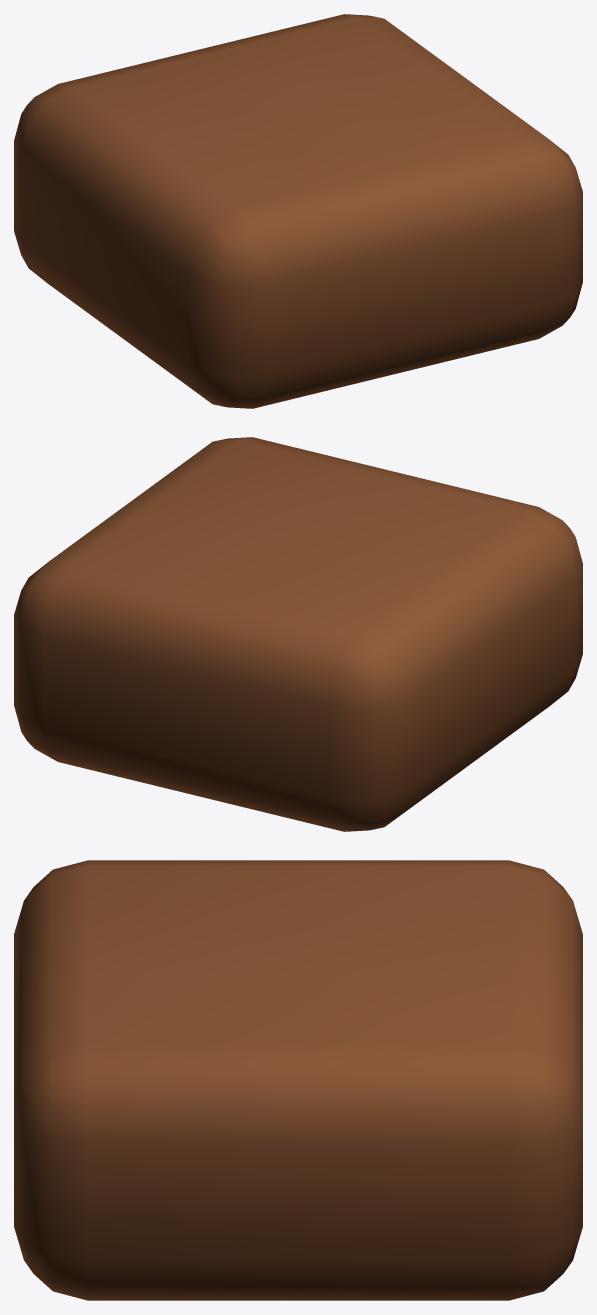
Rendered from candy_choco_13.fbx.
3 views of the same model, one above another, from view 1: azimuth 30°, elevation 25°; view 2: azimuth 150°, elevation 25°; view 3: azimuth 270°, elevation 25° (orthographic). The views are drawn at different scales.
Parts seen in each view (by area): view 1: c_c_13; view 2: c_c_13; view 3: c_c_13.
Part boxes in pixels (x1,y1,x2,y2): c_c_13: (14, 14, 582, 408); c_c_13: (14, 437, 582, 831); c_c_13: (14, 860, 582, 1300).
Size of the model in its own units: 111 by 53.6 by 111.
